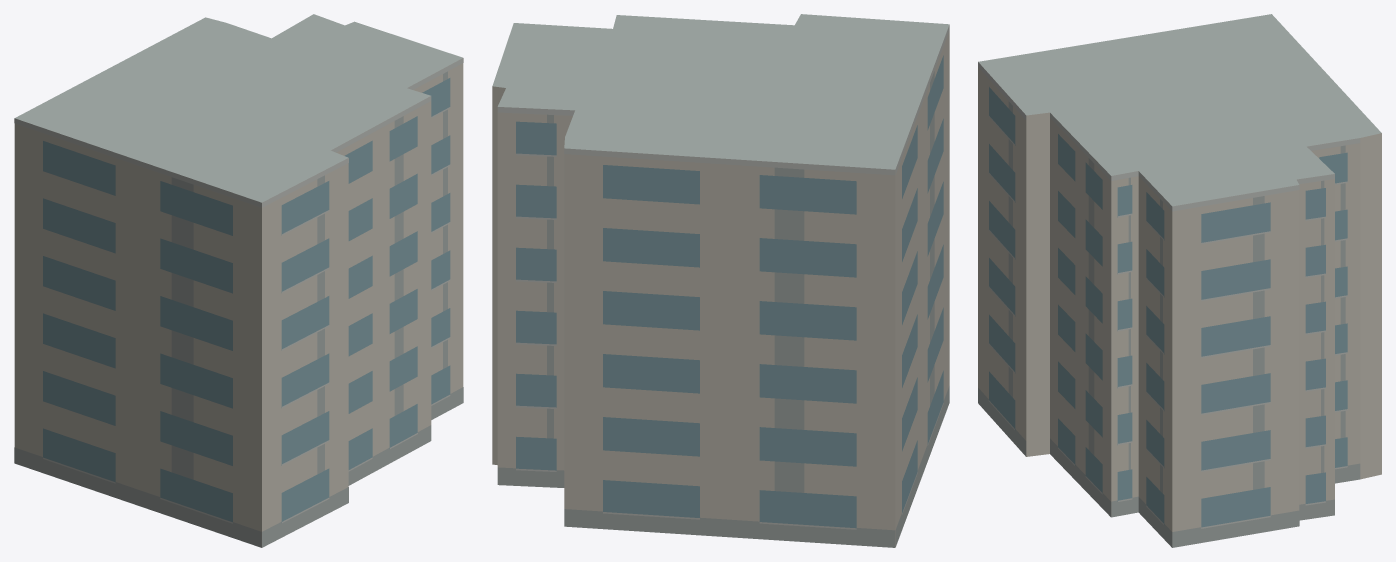
File: survey-upis-33011706.glb
3 renders of one model, left to right at view 1: azimuth 30°, elevation 25°; view 2: azimuth 150°, elevation 25°; view 3: azimuth 270°, elevation 25°, orthographic. The views are drawn at different scales.
Parts seen in each view (by area): view 1: survey-upis-33011706.tmp; view 2: survey-upis-33011706.tmp; view 3: survey-upis-33011706.tmp.
Part boxes in pixels (x1,y1,x2,y2): survey-upis-33011706.tmp: (14,14,463,547); survey-upis-33011706.tmp: (492,14,949,547); survey-upis-33011706.tmp: (978,14,1381,547).
Bounding box in the file's own units: 19.65 × 16.25 × 17.42.
